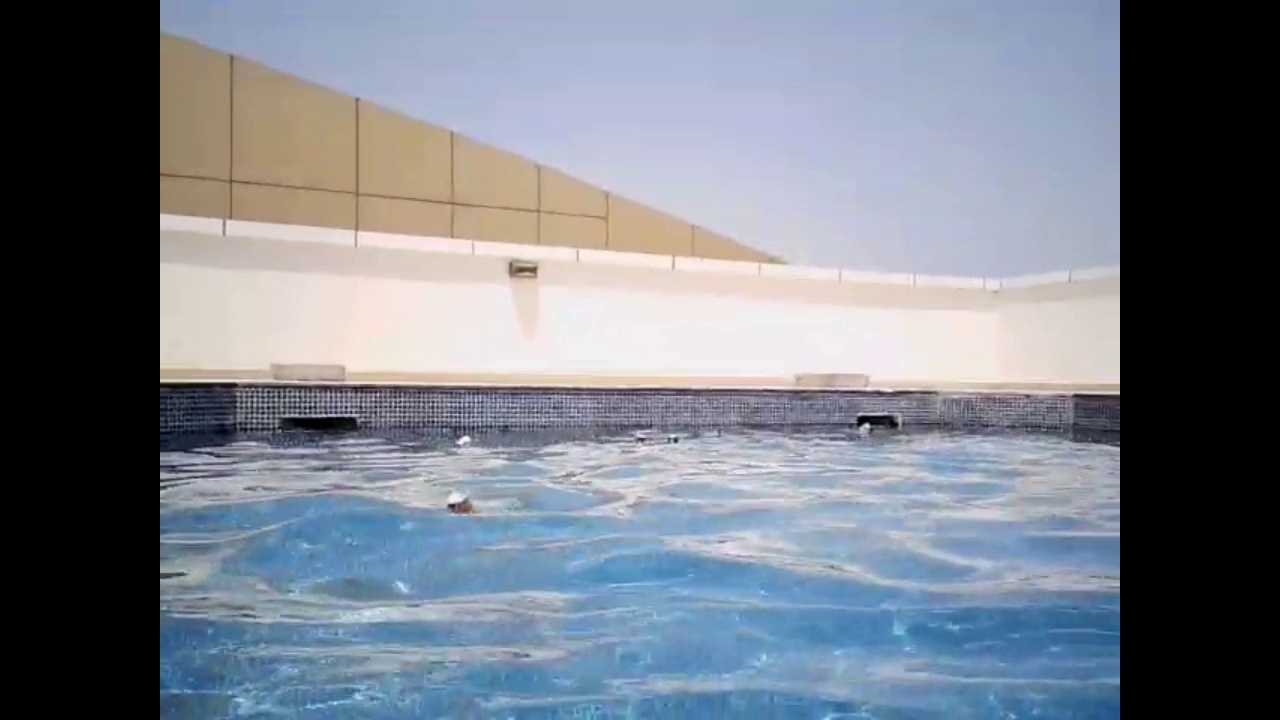debris: (441, 487, 482, 521), (449, 429, 478, 454), (630, 427, 650, 448), (662, 430, 682, 449), (856, 419, 874, 438)
